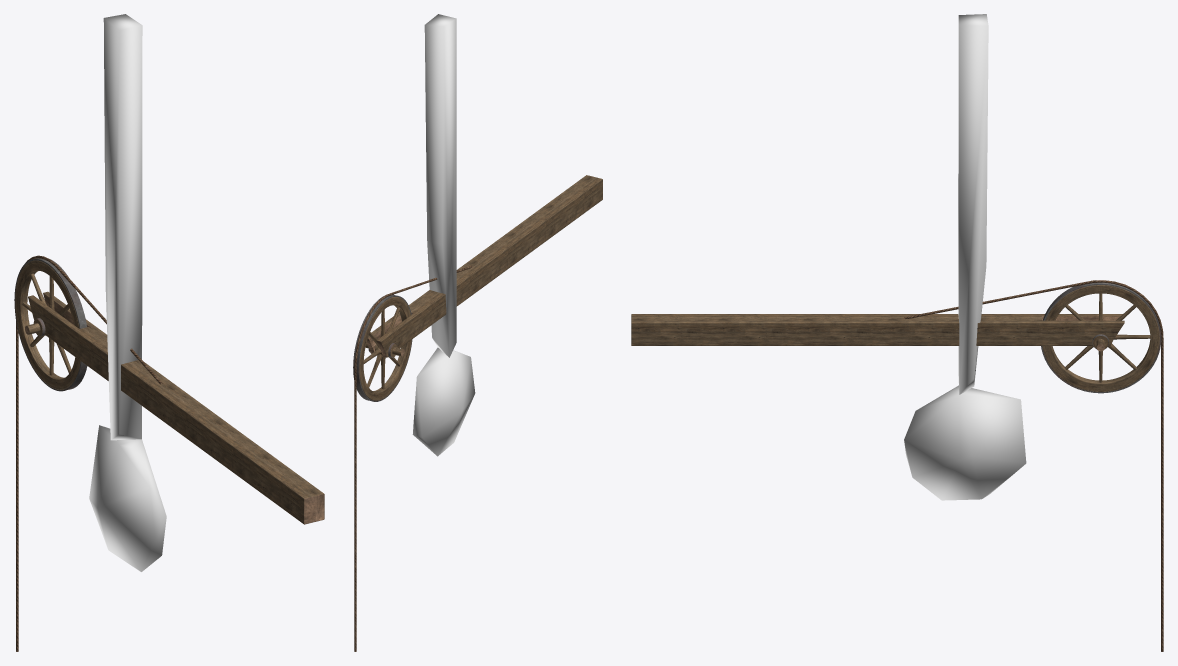
File: SM_WheelMechanism_A.fbx
3 views of the same model, side by side, from view 1: azimuth 30°, elevation 25°; view 2: azimuth 150°, elevation 25°; view 3: azimuth 270°, elevation 25° (orthographic). The views are drawn at different scales.
Visible parts, largest first — view 1: SM_WheelMechanism_A_ConvexHulls, SM_WheelMechanism_A; view 2: SM_WheelMechanism_A_ConvexHulls, SM_WheelMechanism_A; view 3: SM_WheelMechanism_A_ConvexHulls, SM_WheelMechanism_A.
Boxes of the visible parts, x1=… form: SM_WheelMechanism_A_ConvexHulls: x1=89, y1=14, x2=166, y2=571; SM_WheelMechanism_A: x1=14, y1=255, x2=324, y2=651; SM_WheelMechanism_A_ConvexHulls: x1=412, y1=14, x2=475, y2=456; SM_WheelMechanism_A: x1=353, y1=175, x2=602, y2=651; SM_WheelMechanism_A_ConvexHulls: x1=904, y1=14, x2=1026, y2=500; SM_WheelMechanism_A: x1=631, y1=280, x2=1163, y2=651.
Bounding box in the file's own units: 1.27 × 16.45 × 12.55.
